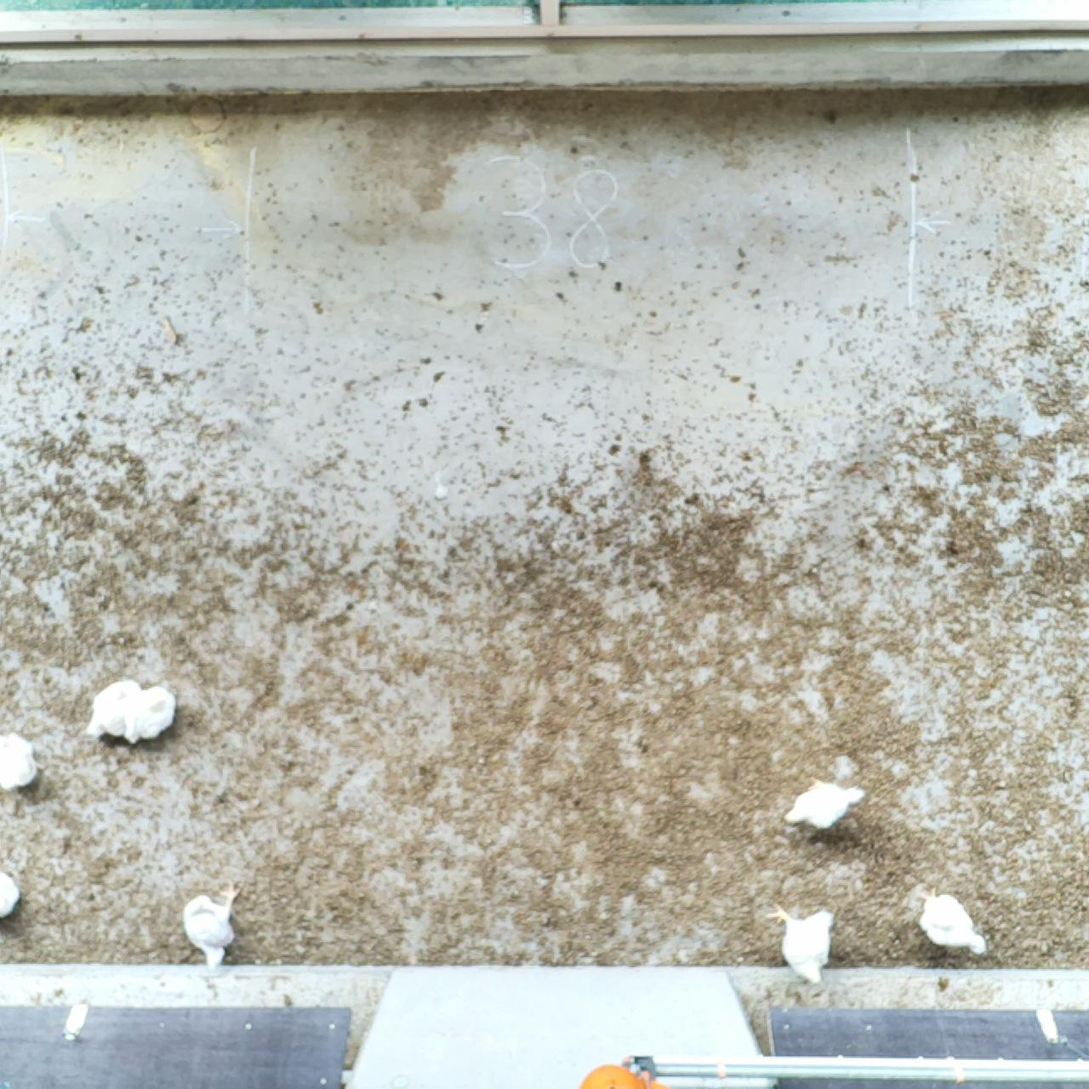chicken: (177, 880, 245, 972), (770, 898, 838, 983), (914, 884, 987, 958), (782, 775, 868, 834), (119, 674, 177, 746), (83, 679, 145, 744), (0, 728, 42, 794), (0, 868, 21, 923)
